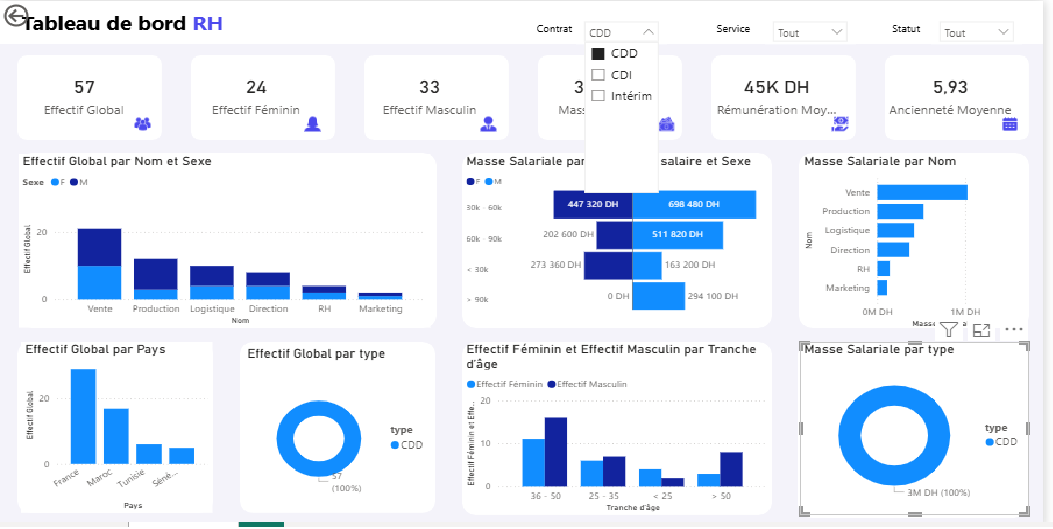

The page's visual inventory and layout, read from the dashboard file:
{"tool":"powerbi","page":{"name":"Dashbord","canvas":[1280,720],"ordinal":0},"visuals":[{"type":"shape","box":[0,0,1280,58.6],"z":0},{"type":"textbox","box":[21.4,5.7,278.6,51.4],"z":1000},{"type":"shape","box":[21.4,73.9,177.1,115.7],"z":2000},{"type":"shape","box":[22.9,207.1,512.9,240],"z":3000},{"type":"shape","box":[567.1,465.7,380,237.1],"z":4000},{"type":"shape","box":[567.1,207.1,380,240],"z":5000},{"type":"shape","box":[979.8,207.6,282.9,240],"z":6000},{"type":"shape","box":[294.3,465.7,240,234.3],"z":7000},{"type":"shape","box":[21.4,465.7,240,234.3],"z":8000},{"type":"shape","box":[978.6,465.7,282.9,240],"z":9000},{"type":"shape","box":[234.3,73.9,177.1,115.7],"z":10000},{"type":"shape","box":[872.9,73.9,177.1,115.7],"z":11000},{"type":"shape","box":[660,73.9,177.1,115.7],"z":12000},{"type":"shape","box":[447.1,73.9,177.1,115.7],"z":13000},{"type":"shape","box":[1085.7,73.9,177.1,115.7],"z":14000},{"type":"textbox","box":[627.1,24.3,80,30],"z":15000},{"type":"textbox","box":[860,24.3,65.7,30],"z":16000},{"type":"textbox","box":[1074.3,24.3,60,30],"z":17000},{"type":"image","box":[368.9,152.3,29.8,29.8],"z":18000},{"type":"image","box":[1224.6,152.3,29.8,29.8],"z":19000},{"type":"image","box":[160.7,152.3,29.8,29.8],"z":20000},{"type":"image","box":[584.3,152.3,29.8,29.8],"z":21000},{"type":"image","box":[803.3,152.3,29.8,29.8],"z":22000},{"type":"image","box":[1015.1,152.3,29.8,29.8],"z":23000},{"type":"card","fields":{"Values":["Mesures.Effectif Global"]},"box":[22.9,74.3,160,105.7],"z":24000},{"type":"card","fields":{"Values":["Mesures.Rémunération Moyenne"]},"box":[872.9,74.3,160,105.7],"z":25000},{"type":"card","fields":{"Values":["Mesures.Masse Salariale"]},"box":[658.6,74.3,160,105.7],"z":26000},{"type":"card","fields":{"Values":["Mesures.Effectif Masculin"]},"box":[447.1,74.3,160,105.7],"z":27000},{"type":"card","fields":{"Values":["Mesures.Effectif Féminin"]},"box":[234.3,74.3,160,105.7],"z":28000},{"type":"card","fields":{"Values":["Mesures.Ancienneté Moyenne"]},"box":[1085.7,74.3,160,105.7],"z":29000},{"type":"columnChart","fields":{"Category":["Service.Nom"],"Y":["Mesures.Effectif Global"],"Series":["Personnel.Sexe"]},"box":[22.7,208.3,504.6,238.1],"z":30000},{"type":"columnChart","fields":{"Category":["Service.Pays"],"Y":["Mesures.Effectif Global"]},"box":[25.5,466.3,235.3,233.9],"z":31000},{"type":"TornadoChart1452517688218","fields":{"Category":["Personnel.Tranche de salaire"],"Series":["Personnel.Sexe"],"Values":["Mesures.Masse Salariale"]},"box":[566.9,208.3,379.8,238.1],"z":32000},{"type":"barChart","fields":{"Category":["Service.Nom"],"Y":["Mesures.Masse Salariale"]},"box":[980.8,208.3,280.6,242.4],"z":33000},{"type":"donutChart","fields":{"Category":["Contrat.type"],"Y":["Mesures.Effectif Global"]},"box":[299.1,472,235.3,233.9],"z":34000},{"type":"clusteredColumnChart","fields":{"Category":["Personnel.Tranche d’âge"],"Y":["Mesures.Effectif Féminin","Mesures.Effectif Masculin"]},"box":[566.9,466.3,379.8,236.7],"z":35000},{"type":"actionButton","box":[0,0,100,40],"z":36000},{"type":"donutChart","fields":{"Category":["Contrat.type"],"Y":["Mesures.Masse Salariale"]},"box":[980.8,466.3,282,236.7],"z":37000},{"type":"slicer","fields":{"Values":["Contrat.type"]},"box":[707.1,0,111.4,58.6],"z":37001},{"type":"slicer","fields":{"Values":["Poste.Titre de poste"]},"box":[1142.9,0,111.4,58.6],"z":37002},{"type":"slicer","fields":{"Values":["Service.Nom"]},"box":[938.6,0,111.4,58.6],"z":37003}]}

Visuals, with their boxes on the page's 1280x720 design canvas (x1, y1, x2, y2). These are canvas units, not pixel positions in the 1053x529 screenshot, which may show the page scaled, cropped or inside an application window:
shape: locate(0, 0, 1280, 59)
textbox: locate(21, 6, 300, 57)
shape: locate(21, 74, 198, 190)
shape: locate(23, 207, 536, 447)
shape: locate(567, 466, 947, 703)
shape: locate(567, 207, 947, 447)
shape: locate(980, 208, 1263, 448)
shape: locate(294, 466, 534, 700)
shape: locate(21, 466, 261, 700)
shape: locate(979, 466, 1262, 706)
shape: locate(234, 74, 411, 190)
shape: locate(873, 74, 1050, 190)
shape: locate(660, 74, 837, 190)
shape: locate(447, 74, 624, 190)
shape: locate(1086, 74, 1263, 190)
textbox: locate(627, 24, 707, 54)
textbox: locate(860, 24, 926, 54)
textbox: locate(1074, 24, 1134, 54)
image: locate(369, 152, 399, 182)
image: locate(1225, 152, 1254, 182)
image: locate(161, 152, 190, 182)
image: locate(584, 152, 614, 182)
image: locate(803, 152, 833, 182)
image: locate(1015, 152, 1045, 182)
card - Mesures.Effectif Global: locate(23, 74, 183, 180)
card - Mesures.Rémunération Moyenne: locate(873, 74, 1033, 180)
card - Mesures.Masse Salariale: locate(659, 74, 819, 180)
card - Mesures.Effectif Masculin: locate(447, 74, 607, 180)
card - Mesures.Effectif Féminin: locate(234, 74, 394, 180)
card - Mesures.Ancienneté Moyenne: locate(1086, 74, 1246, 180)
columnChart - Service.Nom x Mesures.Effectif Global: locate(23, 208, 527, 446)
columnChart - Service.Pays x Mesures.Effectif Global: locate(26, 466, 261, 700)
TornadoChart1452517688218 - Personnel.Tranche de salaire x Personnel.Sexe: locate(567, 208, 947, 446)
barChart - Service.Nom x Mesures.Masse Salariale: locate(981, 208, 1261, 451)
donutChart - Contrat.type x Mesures.Effectif Global: locate(299, 472, 534, 706)
clusteredColumnChart - Personnel.Tranche d’âge x Mesures.Effectif Féminin: locate(567, 466, 947, 703)
actionButton: locate(0, 0, 100, 40)
donutChart - Contrat.type x Mesures.Masse Salariale: locate(981, 466, 1263, 703)
slicer - Contrat.type: locate(707, 0, 818, 59)
slicer - Poste.Titre de poste: locate(1143, 0, 1254, 59)
slicer - Service.Nom: locate(939, 0, 1050, 59)
